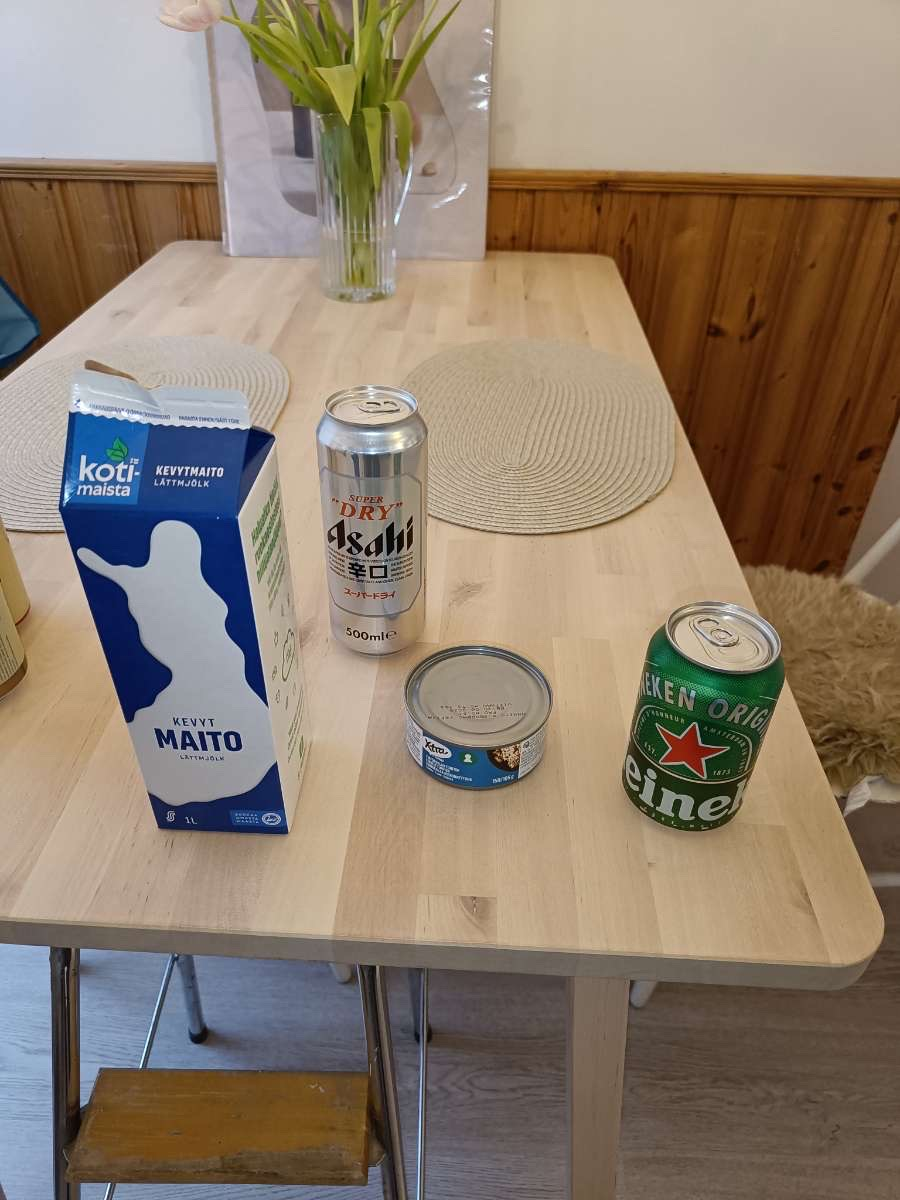Dryckeskartong: (28, 345, 310, 858)
Konservburk: (399, 644, 563, 801)
Pantburk: (618, 592, 788, 841), (312, 372, 434, 660)
